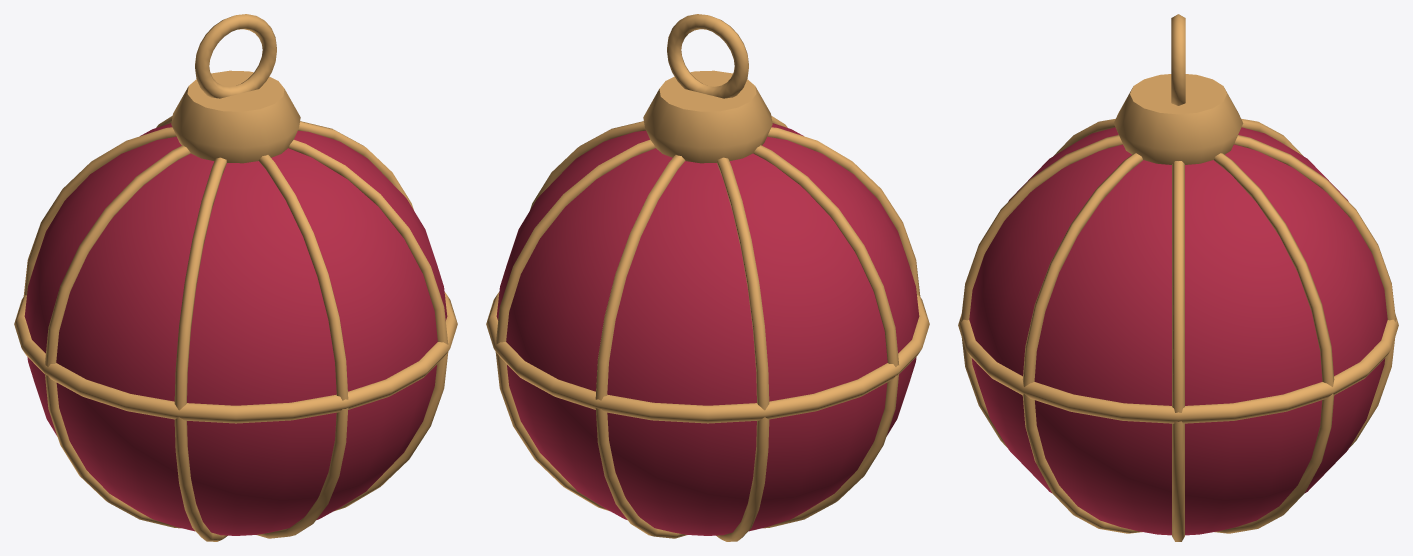
The model's file is storybook-christmas-market-ribbed-round-bauble-95cdd441__19712.glb.
3 views of the same model, side by side, from view 1: azimuth 30°, elevation 25°; view 2: azimuth 150°, elevation 25°; view 3: azimuth 270°, elevation 25° (orthographic).
Parts seen in each view (by area): view 1: ribbed-round-bauble; view 2: ribbed-round-bauble; view 3: ribbed-round-bauble.
Part boxes in pixels (x1,y1,x2,y2): ribbed-round-bauble: (14,14,457,541); ribbed-round-bauble: (486,14,929,541); ribbed-round-bauble: (958,14,1398,541).
Bounding box in the file's own units: 0.544 × 0.6855 × 0.544.
